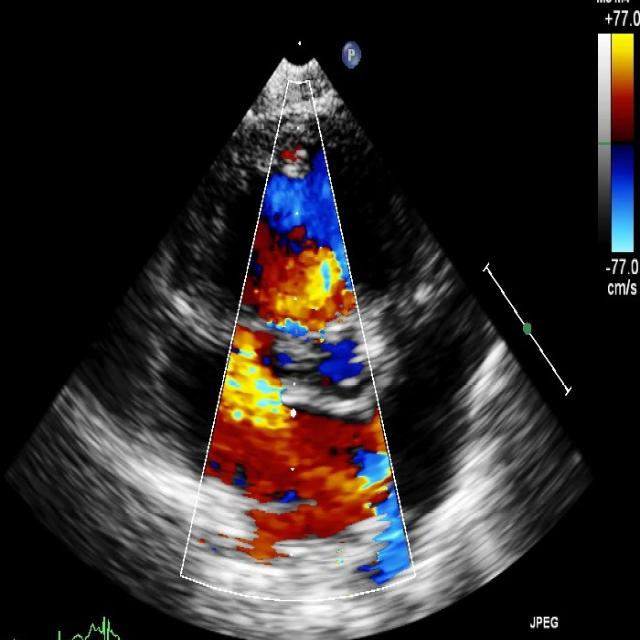ASDType2: (214, 417, 383, 511)
VSDType2: (232, 262, 365, 379)
